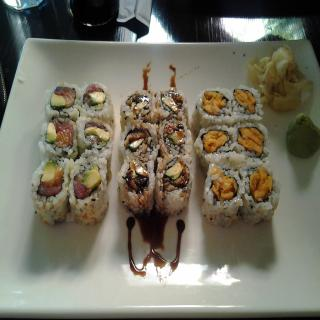Sushi: (194, 88, 280, 224), (30, 82, 112, 222), (118, 88, 192, 212), (32, 154, 76, 229), (46, 80, 80, 112)
